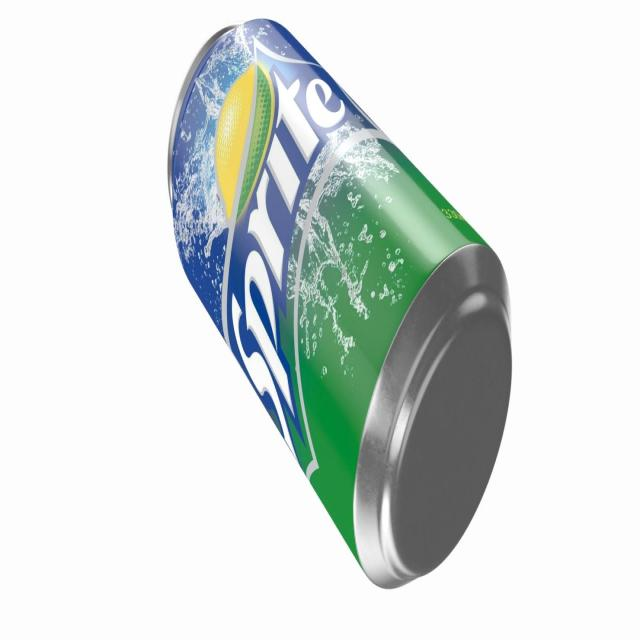sprite: (157, 12, 527, 577)
